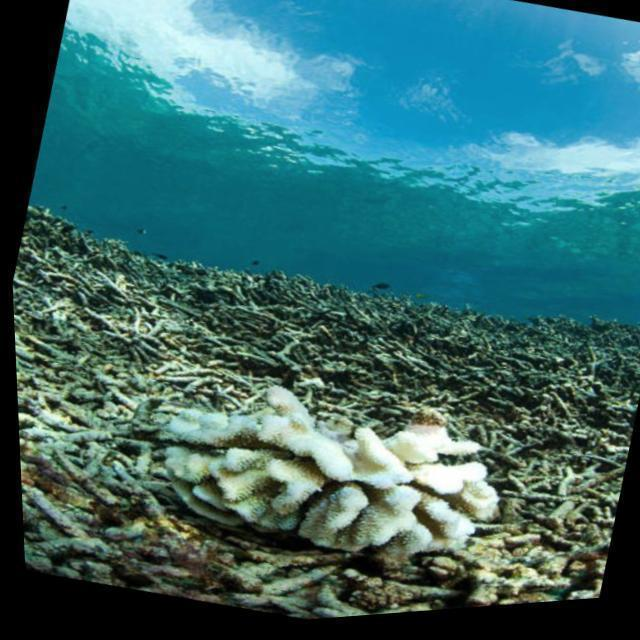Dead Coral: (8, 181, 640, 488), (12, 337, 167, 593), (451, 439, 626, 615), (198, 517, 460, 630)
